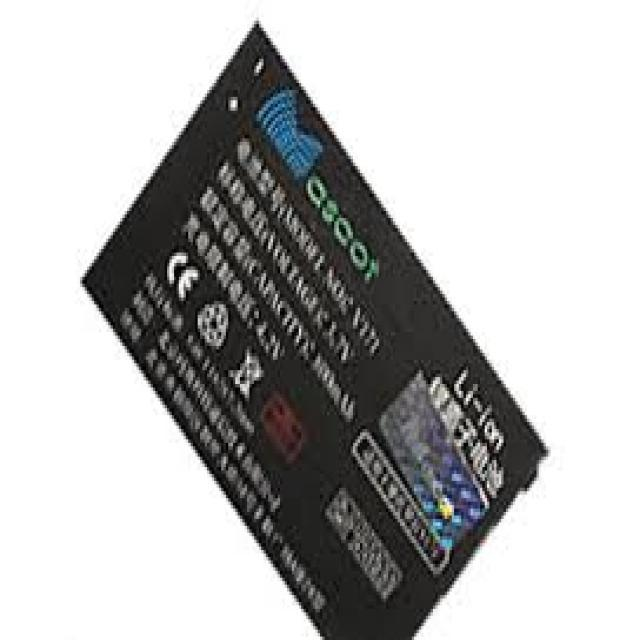battery: (82, 20, 550, 640)
